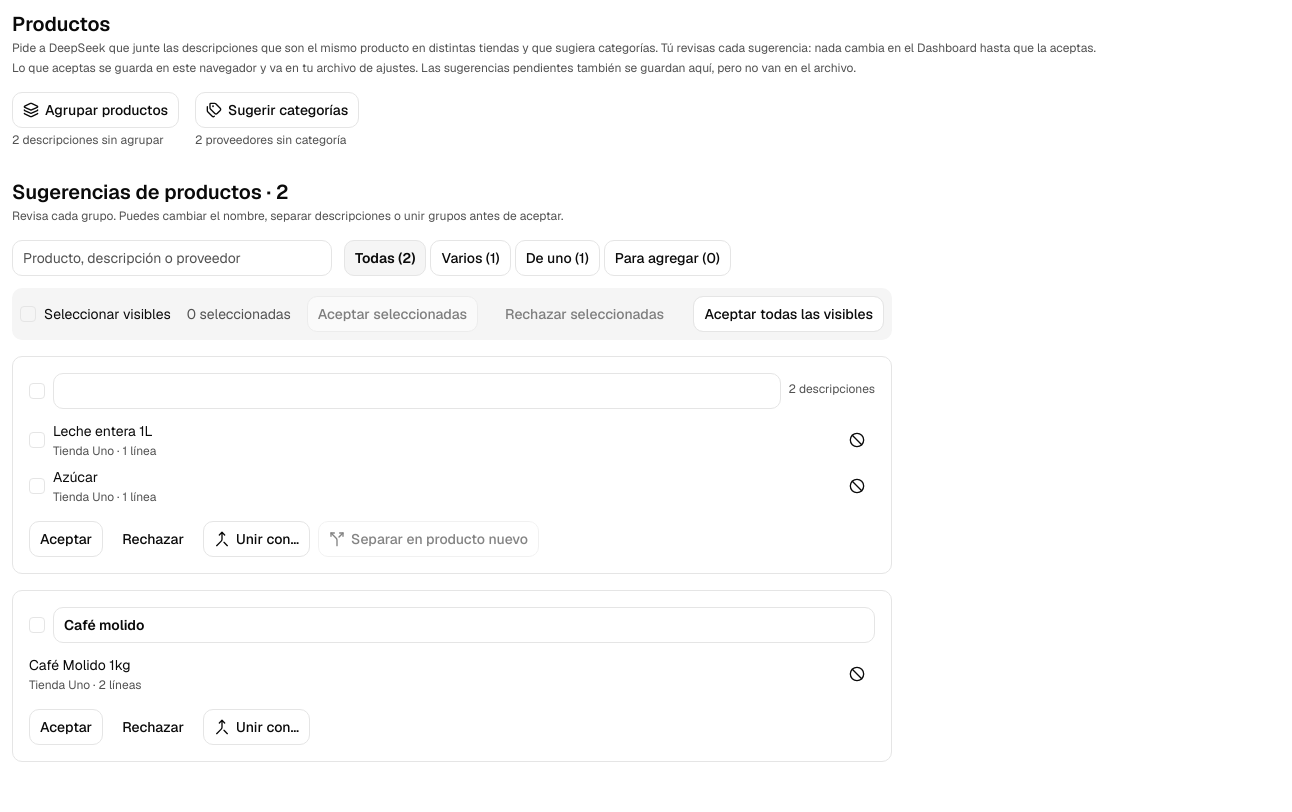
it: E4: a refused accept keeps the card and says why › an empty name
Step 1. Click the button with aria-label "Aceptar la sugerencia" → (66, 539), box [29,521,103,557]
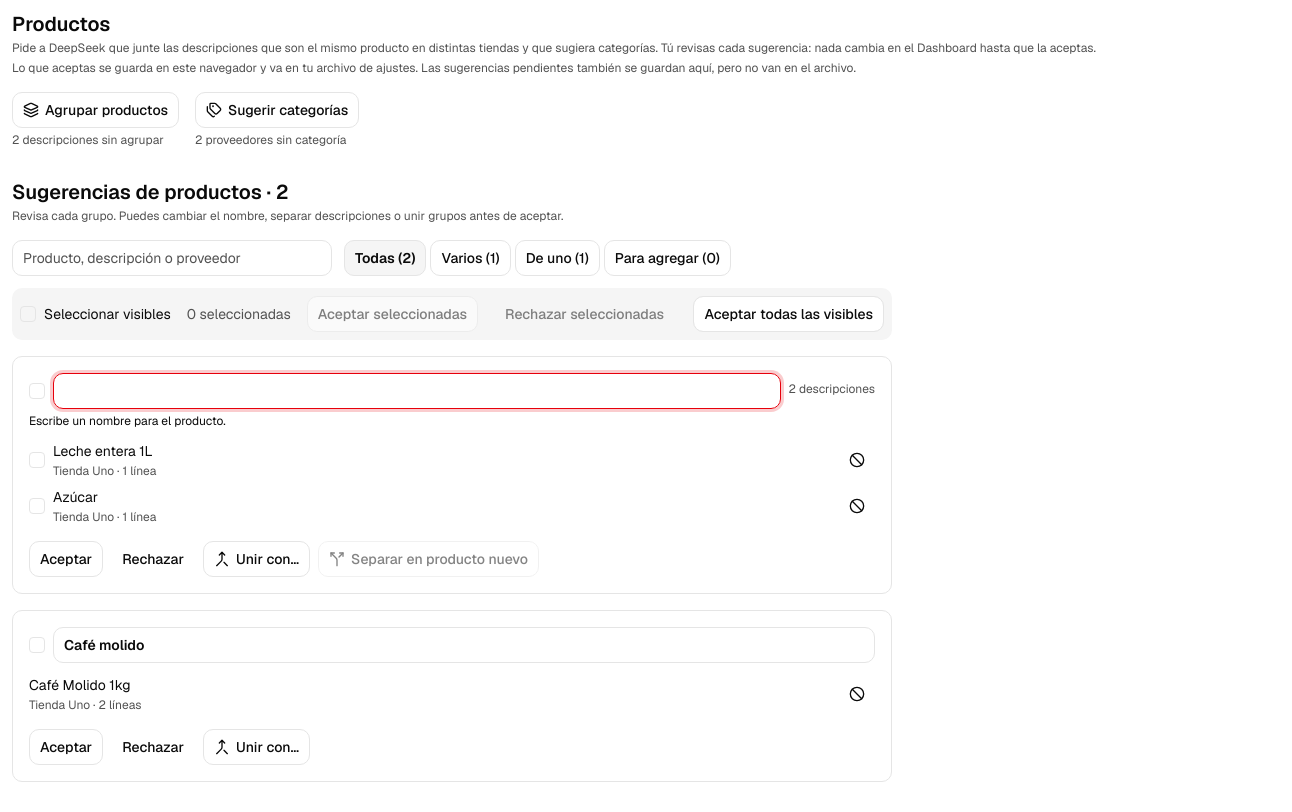
Check: the text "Escribe un nombre para el producto." is shown, box [29,413,226,429]
